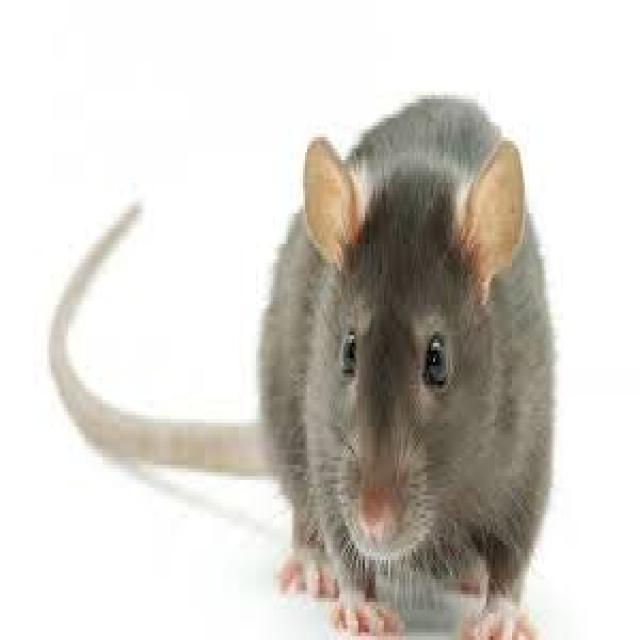rat: (251, 69, 574, 640)
